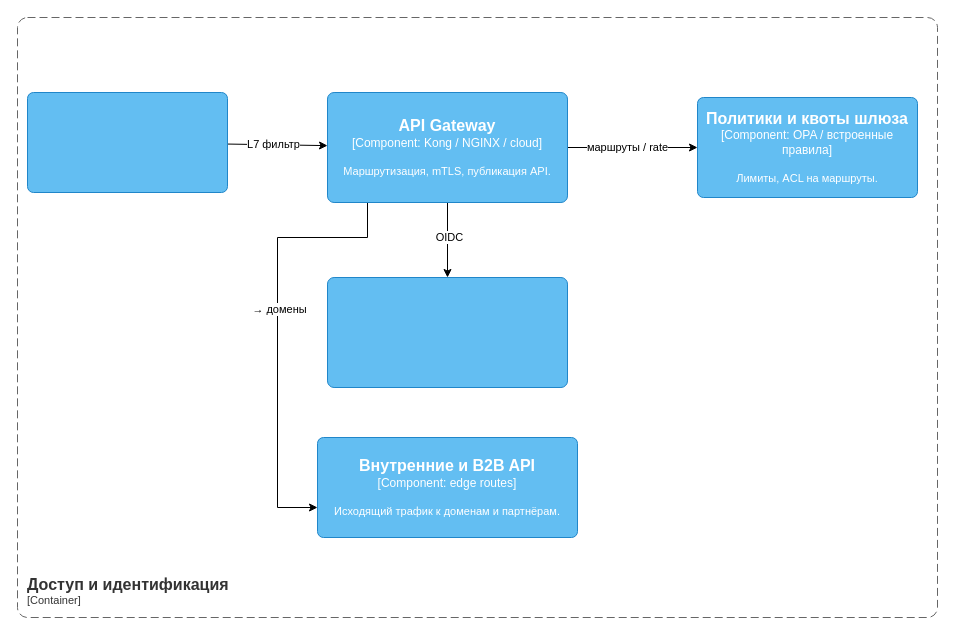
Some shapes in this 955 by 635 pixel diagram are drawn without their labels. The centre of each missing label's shape, as x and y in pixels:
IdP (OIDC) [Component: Keycloak / cloud IdP] Токены, SSO, федерация.: point 447,332
WAF [Component: облачный / self-hosted] Защита периметра, боты, OWASP.: point 127,142
